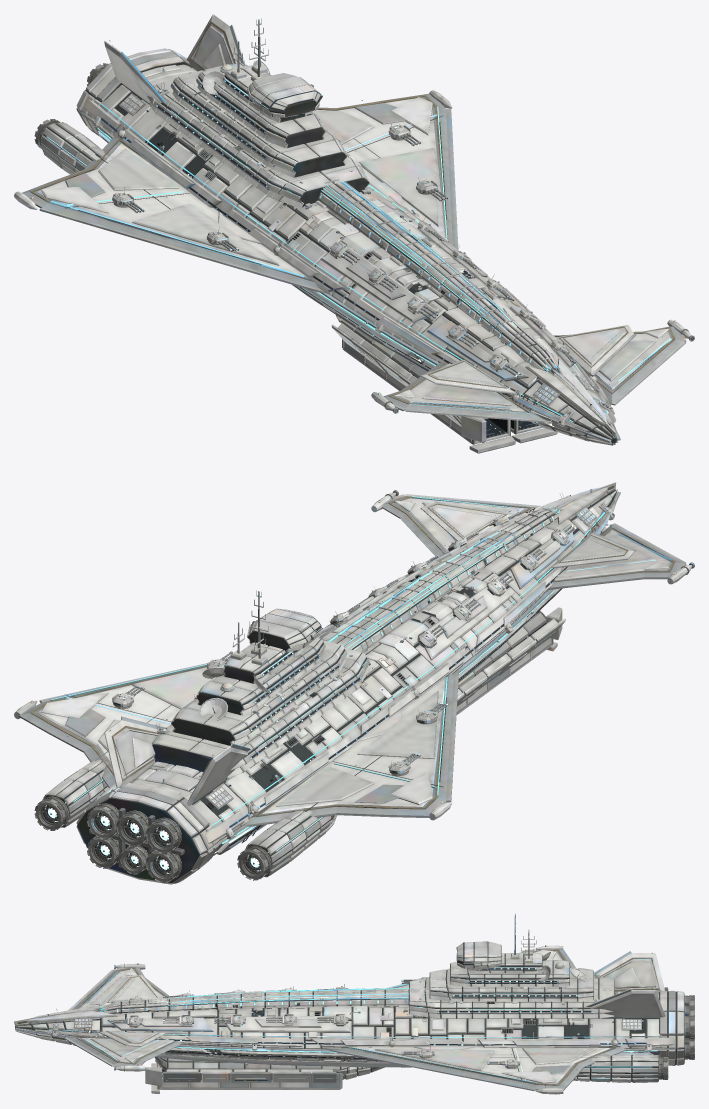
The model's file is astraeon_flagship.glb.
3 views of the same model, one above another, from view 1: azimuth 30°, elevation 25°; view 2: azimuth 150°, elevation 25°; view 3: azimuth 270°, elevation 25° (orthographic). The views are drawn at different scales.
Parts seen in each view (by area): view 1: astraeon_flagship_hull; view 2: astraeon_flagship_hull, astraeon_flagship_plasma; view 3: astraeon_flagship_hull, astraeon_flagship_glass.
Boxes of the visible parts, x1,y1,x2,y2 form: astraeon_flagship_hull: [14, 14, 694, 453]; astraeon_flagship_hull: [14, 482, 694, 884]; astraeon_flagship_plasma: [45, 805, 260, 873]; astraeon_flagship_hull: [14, 913, 694, 1094]; astraeon_flagship_glass: [167, 942, 646, 1058].
Size of the model in its own units: 201 by 107 by 398.
3 materials, 1 textured.
